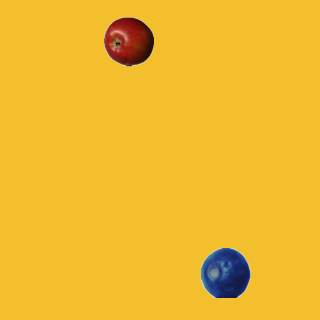Apple Braeburn: (103, 16, 153, 66)
Huckleberry: (200, 247, 250, 297)
